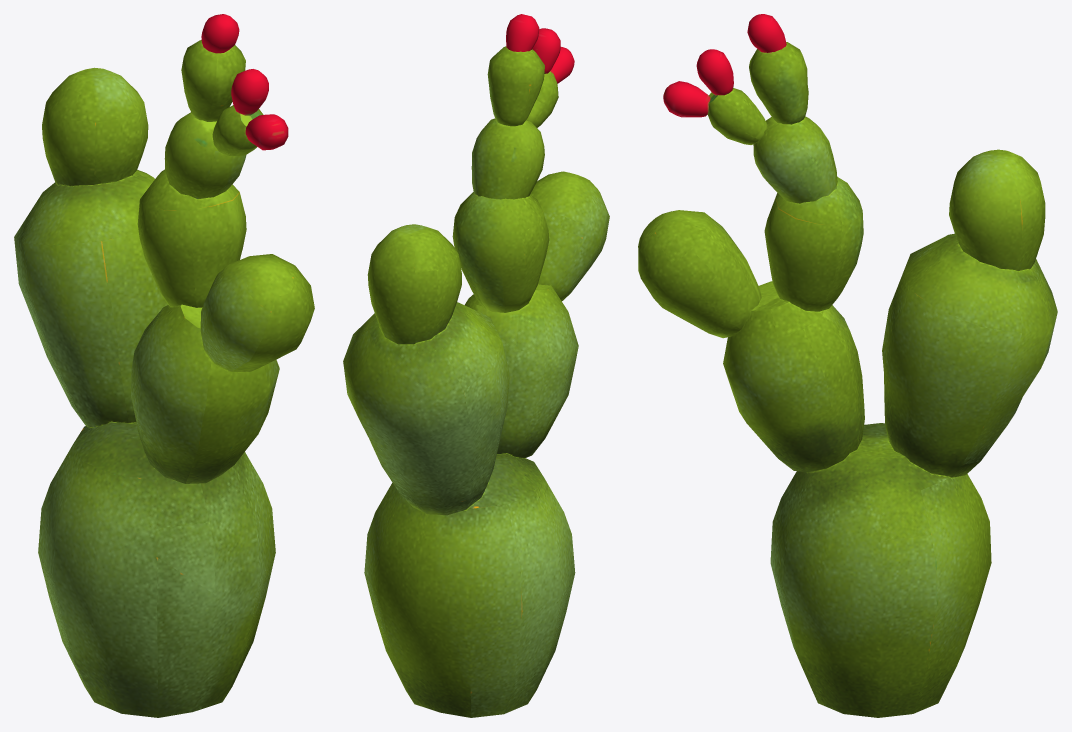
File: cactus2 arreg.fbx
3 renders of one model, left to right at view 1: azimuth 30°, elevation 25°; view 2: azimuth 150°, elevation 25°; view 3: azimuth 270°, elevation 25°, orthographic. The views are drawn at different scales.
Parts seen in each view (by area): view 1: Blobby; view 2: Blobby; view 3: Blobby.
Part boxes in pixels (x1,y1,x2,y2): Blobby: (14, 14, 314, 717); Blobby: (343, 14, 609, 717); Blobby: (638, 14, 1057, 717).
Bounding box in the file's own units: 85.24 × 283 × 160.
Materials: 1 (1 with a texture image).
